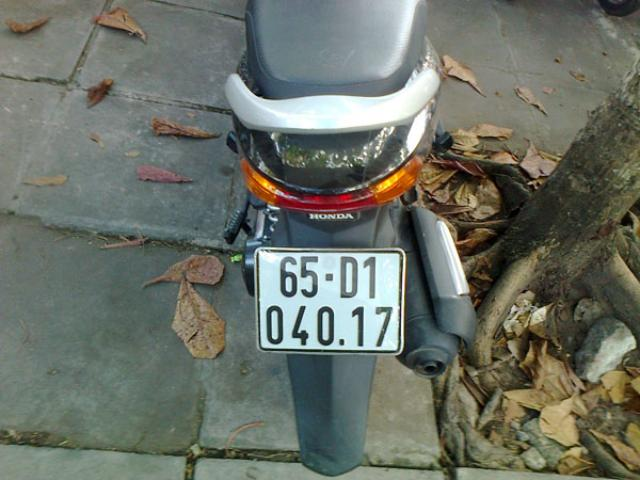plate: (258, 247, 406, 353)
